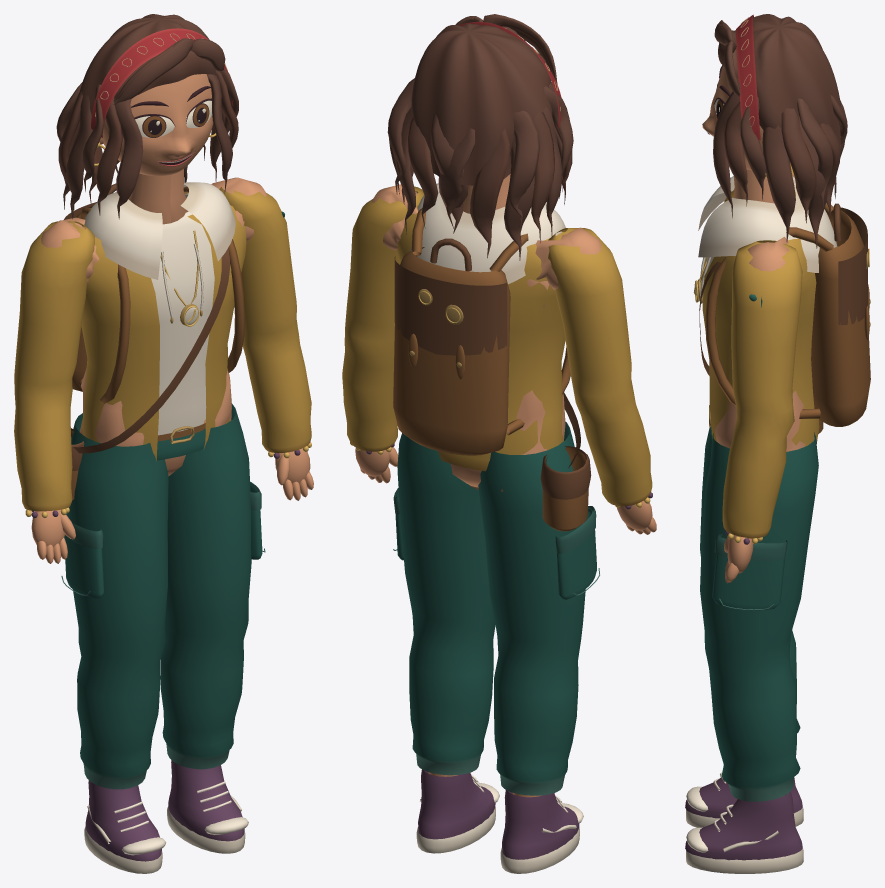
Rendered from axon-roma-high.glb.
3 views of the same model, side by side, from view 1: azimuth 30°, elevation 25°; view 2: azimuth 150°, elevation 25°; view 3: azimuth 270°, elevation 25° (orthographic).
Parts seen in each view (by area): view 1: clothes / Painted surface (×2), skin / Painted surface (×2), skin / skin; view 2: clothes / Painted surface, skin / Painted surface (×2), skin / skin; view 3: clothes / Painted surface, skin / Painted surface (×2), skin / skin.
Boxes of the visible parts, x1,y1,x2,y2 form: clothes / Painted surface (×2): (14,28,311,873); skin / Painted surface (×2): (31,14,313,563); skin / skin: (34,177,266,511); clothes / Painted surface: (342,22,652,873); skin / Painted surface (×2): (355,14,656,534); skin / skin: (372,184,601,797); clothes / Painted surface: (685,14,870,873); skin / Painted surface (×2): (702,14,847,583); skin / skin: (715,174,805,538).
Bounding box in the file's own units: 0.6341 × 1.68 × 0.3446.
